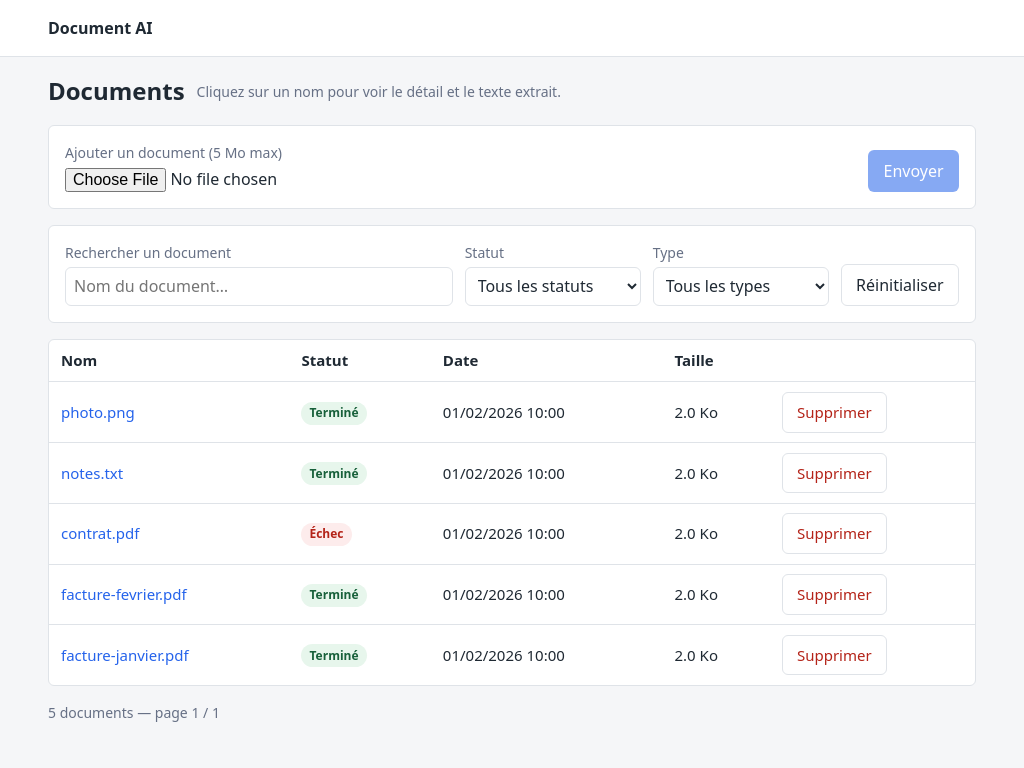
Test: Recherche et filtres de la liste des documents › filtre par statut
Select "Terminé" in the dropdown with id "document-status" at (553, 287), box [465,267,641,306]
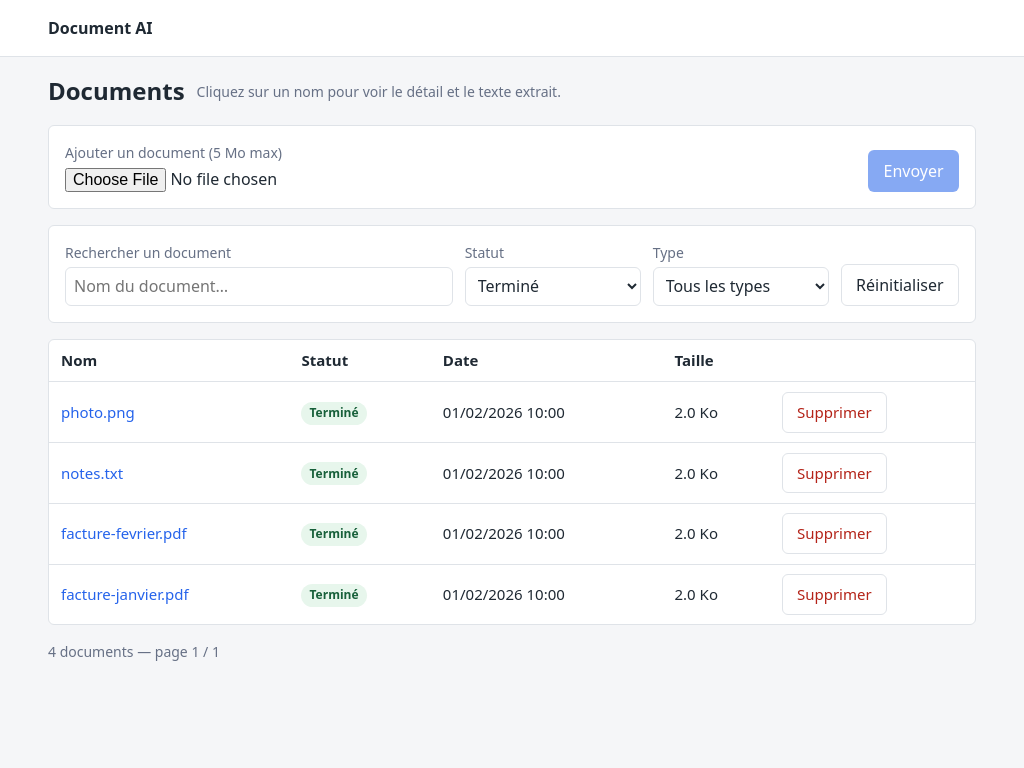
Check: the text "Échec" is gone
